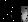person: (22, 7, 28, 22), (8, 10, 15, 22)
